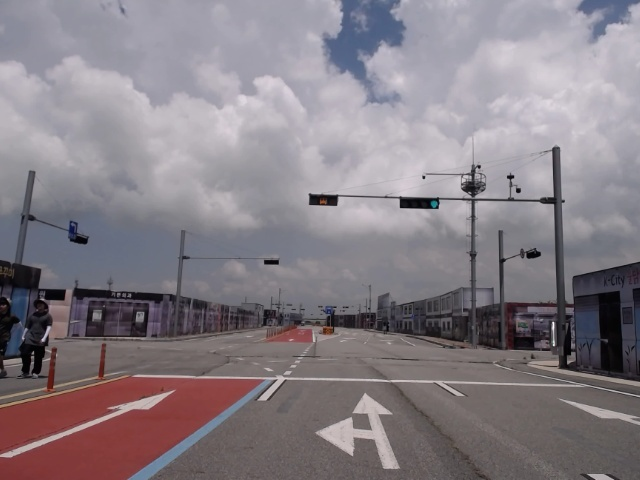straight_green_4: (399, 198, 440, 209)
